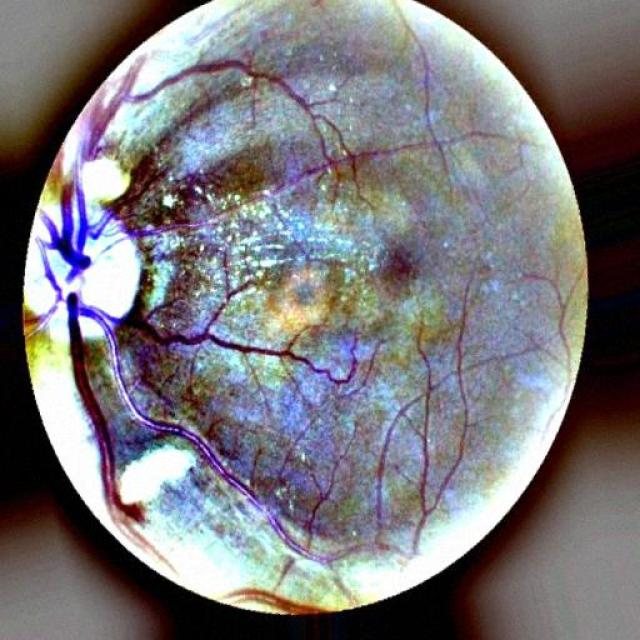Macula: (349, 215, 443, 331)
Nerves: (48, 51, 376, 276), (51, 281, 299, 532)
Optic Disk: (20, 189, 194, 393)
